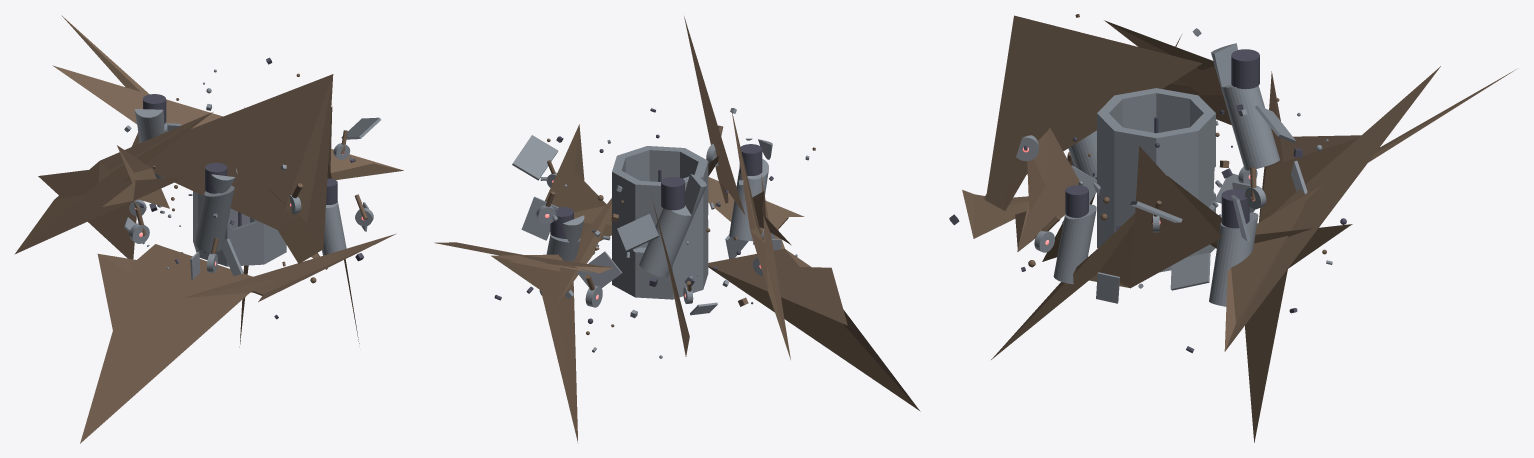
Rendered from space_fortress_destroyed.glb.
3 views of the same model, side by side, from view 1: azimuth 30°, elevation 25°; view 2: azimuth 150°, elevation 25°; view 3: azimuth 270°, elevation 25° (orthographic). The views are drawn at different scales.
Visible parts, largest first — view 1: ArmorPlate.016, ArmorPlate.012, ArmorPlate.010, ArmorPlate.005, CoreStructure, ArmorPlate.015, BrokenTower.001, ArmorPlate.008, ArmorPlate.011, BrokenTower.002, BrokenTower.003, ArmorPlate.001 (+3 smaller); view 2: CoreStructure, ArmorPlate.012, ArmorPlate.004, ArmorPlate.019, BrokenTower.003, ArmorPlate.010, ArmorPlate.016, BrokenTower.001, ArmorPlate.015, ArmorPlate.001, BrokenTower, ArmorPlate.005 (+8 smaller); view 3: ArmorPlate.016, CoreStructure, ArmorPlate.005, ArmorPlate.019, ArmorPlate.004, ArmorPlate.017, ArmorPlate.008, BrokenTower.003, ArmorPlate.010, BrokenTower, BrokenTower.002, ArmorPlate.015 (+6 smaller).
Part boxes in pixels (left/top/right/bottom): ArmorPlate.016: left=145, top=74, right=333, bottom=263; ArmorPlate.012: left=80, top=244, right=252, bottom=443; ArmorPlate.010: left=14, top=112, right=212, bottom=254; ArmorPlate.005: left=52, top=15, right=403, bottom=179; CoreStructure: left=193, top=191, right=286, bottom=266; ArmorPlate.015: left=182, top=233, right=396, bottom=301; BrokenTower.001: left=195, top=169, right=237, bottom=252; ArmorPlate.008: left=38, top=133, right=139, bottom=259; ArmorPlate.011: left=102, top=145, right=169, bottom=208; BrokenTower.002: left=322, top=201, right=346, bottom=255; BrokenTower.003: left=134, top=109, right=168, bottom=178; ArmorPlate.001: left=341, top=117, right=380, bottom=139; CoreStructure: left=612, top=146, right=708, bottom=299; ArmorPlate.012: left=708, top=248, right=920, bottom=411; ArmorPlate.004: left=491, top=198, right=611, bottom=443; ArmorPlate.019: left=545, top=124, right=611, bottom=241; BrokenTower.003: left=639, top=174, right=706, bottom=277; ArmorPlate.010: left=731, top=109, right=790, bottom=359; ArmorPlate.016: left=684, top=16, right=744, bottom=214; BrokenTower.001: left=729, top=138, right=772, bottom=241; ArmorPlate.015: left=708, top=177, right=804, bottom=249; ArmorPlate.001: left=512, top=135, right=558, bottom=180; BrokenTower: left=539, top=215, right=584, bottom=295; ArmorPlate.005: left=434, top=242, right=613, bottom=273; ArmorPlate.016: left=983, top=15, right=1202, bottom=210; CoreStructure: left=1097, top=88, right=1215, bottom=272; ArmorPlate.005: left=1224, top=66, right=1516, bottom=351; ArmorPlate.019: left=991, top=146, right=1222, bottom=359; ArmorPlate.004: left=1167, top=176, right=1352, bottom=442; ArmorPlate.017: left=1015, top=128, right=1079, bottom=251; ArmorPlate.008: left=1259, top=71, right=1360, bottom=222; BrokenTower.003: left=1211, top=43, right=1279, bottom=170; ArmorPlate.010: left=1104, top=20, right=1231, bottom=125; BrokenTower: left=1209, top=182, right=1261, bottom=306; BrokenTower.002: left=1053, top=182, right=1100, bottom=284; ArmorPlate.015: left=962, top=189, right=1028, bottom=238.
Bounding box in the file's own units: 570 × 474 × 576.
